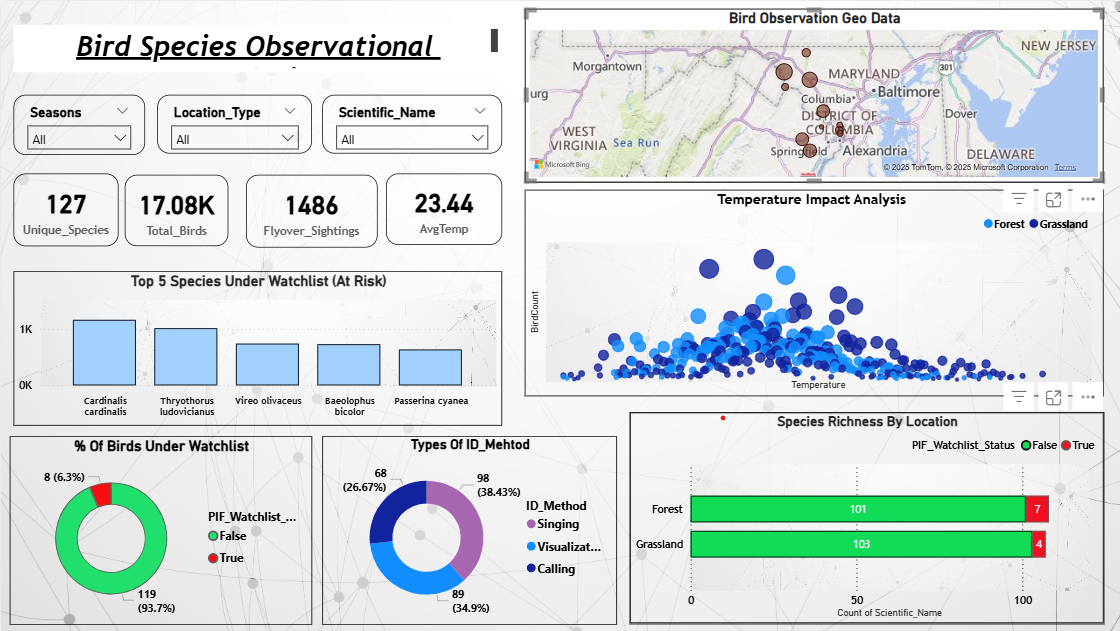

The dashboard page shown, as its layout file describes it:
{"tool":"powerbi","page":{"name":"Dashboard","canvas":[1280,720],"ordinal":0},"visuals":[{"type":"card","fields":{"Values":["Count(Sheet1.Scientific_Name)"]},"box":[14.3,197.1,120,82.9],"z":0},{"type":"card","fields":{"Values":["CountNonNull(Sheet1.Flyover_Observed)"]},"box":[280,198.6,150,82.9],"z":1000},{"type":"card","fields":{"Values":["Avg(Sheet1.Temperature)"]},"box":[440,197.1,132.9,81.4],"z":2000},{"type":"scatterChart","title":"Temperature Impact Analysis ","fields":{"X":["Sheet1.Temperature"],"Series":["Sheet1.Location_Type"],"Y":["Codes.BirdCount"],"Size":["CountNonNull(Sheet1.Scientific_Name)"]},"box":[598.6,215.7,661.4,235.7],"z":3000},{"type":"columnChart","title":"Top 5 Species Under Watchlist (At Risk)","fields":{"Category":["Sheet1.Scientific_Name"],"Y":["CountNonNull(Sheet1.Regional_Stewardship_Status)"]},"box":[14.3,308.6,558.6,177.1],"z":4000},{"type":"barChart","title":"Species Richness By Location","fields":{"Series":["Sheet1.PIF_Watchlist_Status"],"Category":["Sheet1.Location_Type"],"Y":["Count(Sheet1.Scientific_Name)"]},"box":[718,470,542,242],"z":5000},{"type":"slicer","fields":{"Values":["Sheet1.Seasons"]},"box":[14.3,107.1,150,68.6],"z":6000},{"type":"slicer","fields":{"Values":["Sheet1.Scientific_Name"]},"box":[367.1,107.1,205.7,67.1],"z":7000},{"type":"slicer","fields":{"Values":["Sheet1.Location_Type"]},"box":[178.6,107.1,177.1,67.1],"z":8000},{"type":"card","fields":{"Values":["CountNonNull(Sheet1.Scientific_Name)"]},"box":[141.4,198.6,118.6,81.4],"z":9000},{"type":"textbox","box":[14.3,27.1,558.6,54.3],"z":10000},{"type":"map","title":"Bird Observation Geo Data","fields":{"Size":["CountNonNull(Sheet1.Scientific_Name)"],"Y":["Codes.Latitude"],"X":["Codes.Longitude"]},"box":[598.3,8.2,661.4,199],"z":11000},{"type":"donutChart","title":"% Of Birds Under Watchlist","fields":{"Y":["Count(Sheet1.Scientific_Name)"],"Category":["Sheet1.PIF_Watchlist_Status"]},"box":[10,497.1,345.7,215.7],"z":12000},{"type":"donutChart","title":"Types Of ID_Mehtod","fields":{"Y":["Count(Sheet1.Scientific_Name)"],"Category":["Sheet1.ID_Method"]},"box":[367.1,497.1,337.1,215.7],"z":13000}]}

Visuals, with their boxes in screenshot pixels (x1, y1, x2, y2), scaled from the page's 1280x720 canvas onto the 1120x631 screenshot:
card - Count(Sheet1.Scientific_Name): x1=13 y1=173 x2=118 y2=245
card - CountNonNull(Sheet1.Flyover_Observed): x1=245 y1=174 x2=376 y2=247
card - Avg(Sheet1.Temperature): x1=385 y1=173 x2=501 y2=244
"Temperature Impact Analysis " scatterChart: x1=524 y1=189 x2=1102 y2=396
"Top 5 Species Under Watchlist (At Risk)" columnChart: x1=13 y1=270 x2=501 y2=426
"Species Richness By Location" barChart: x1=628 y1=412 x2=1102 y2=624
slicer - Sheet1.Seasons: x1=13 y1=94 x2=144 y2=154
slicer - Sheet1.Scientific_Name: x1=321 y1=94 x2=501 y2=153
slicer - Sheet1.Location_Type: x1=156 y1=94 x2=311 y2=153
card - CountNonNull(Sheet1.Scientific_Name): x1=124 y1=174 x2=228 y2=245
textbox: x1=13 y1=24 x2=501 y2=71
"Bird Observation Geo Data" map: x1=524 y1=7 x2=1102 y2=182
"% Of Birds Under Watchlist" donutChart: x1=9 y1=436 x2=311 y2=625
"Types Of ID_Mehtod" donutChart: x1=321 y1=436 x2=616 y2=625
